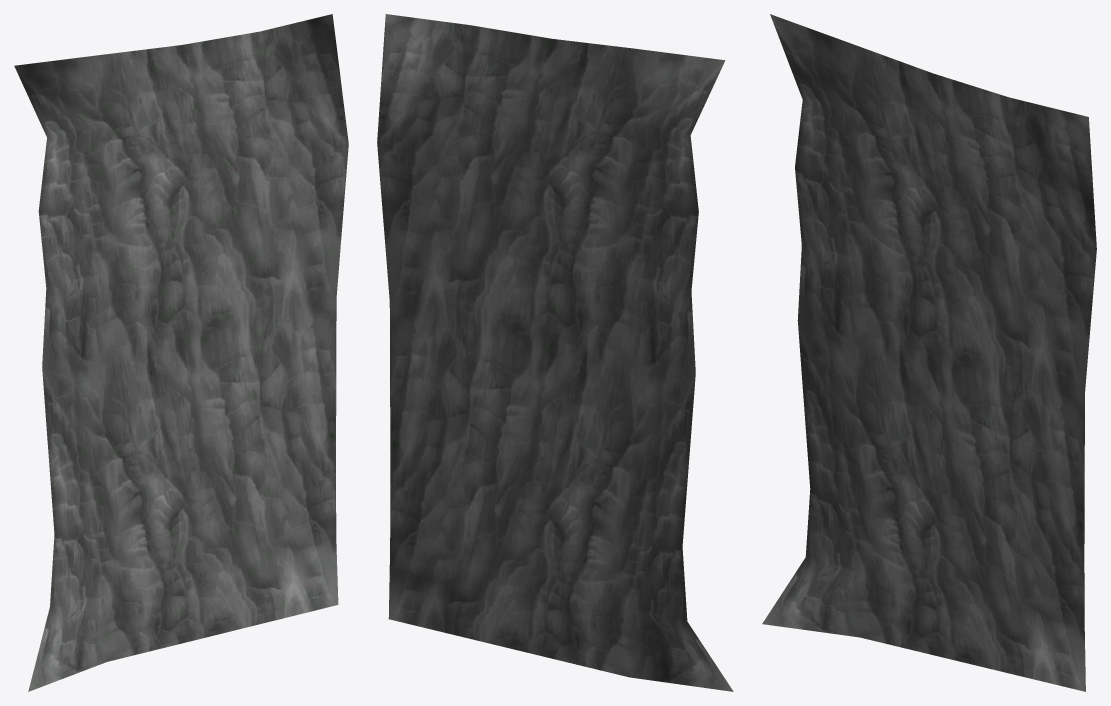
File: SWORDLIGHT20_PS-AREA01_29.fbx
3 views of the same model, side by side, from view 1: azimuth 30°, elevation 25°; view 2: azimuth 150°, elevation 25°; view 3: azimuth 330°, elevation 25° (orthographic). The views are drawn at different scales.
Parts seen in each view (by area): view 1: SWORDLIGHT20_PS-AREA01_29; view 2: SWORDLIGHT20_PS-AREA01_29; view 3: SWORDLIGHT20_PS-AREA01_29.
Boxes of the visible parts, x1,y1,x2,y2 form: SWORDLIGHT20_PS-AREA01_29: (14,14,348,691); SWORDLIGHT20_PS-AREA01_29: (377,14,733,691); SWORDLIGHT20_PS-AREA01_29: (762,14,1096,691).
Size of the model in its own units: 49104 by 86535 by 4036.
Materials: 1 (1 with a texture image).
